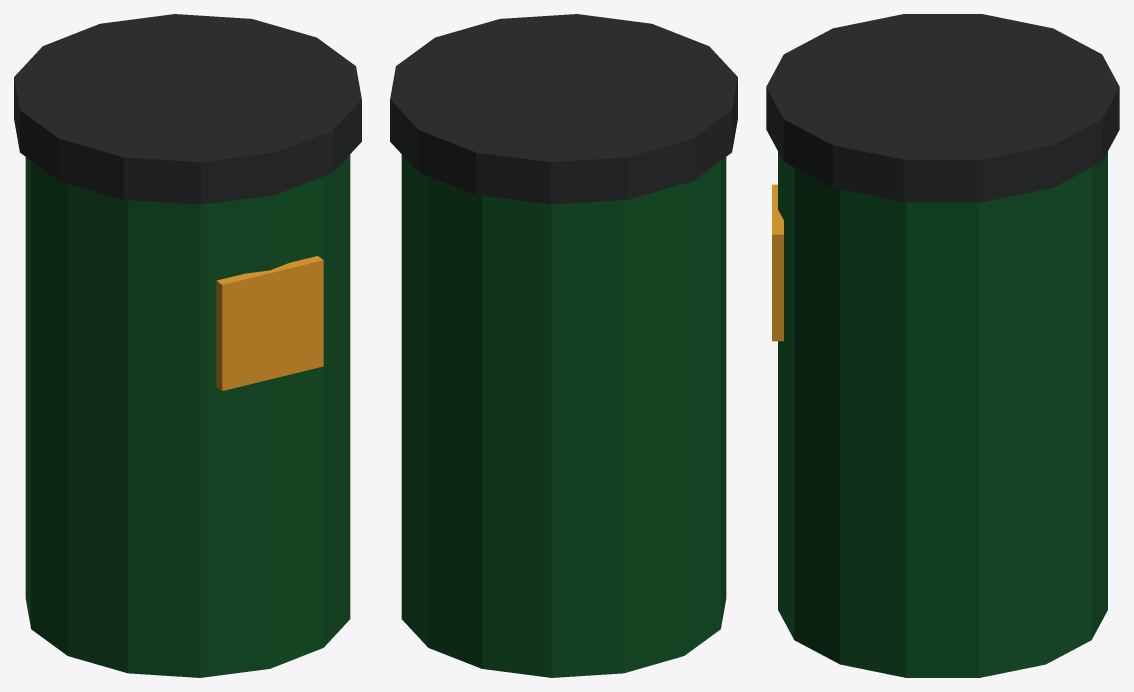
The model's file is PROP_REAL_TrashBin.glb.
3 views of the same model, side by side, from view 1: azimuth 30°, elevation 25°; view 2: azimuth 150°, elevation 25°; view 3: azimuth 270°, elevation 25° (orthographic).
Parts seen in each view (by area): view 1: PROP_REAL_TrashBin; view 2: PROP_REAL_TrashBin; view 3: PROP_REAL_TrashBin.
Boxes of the visible parts, x1,y1,x2,y2 form: PROP_REAL_TrashBin: [14, 14, 361, 677]; PROP_REAL_TrashBin: [390, 14, 737, 677]; PROP_REAL_TrashBin: [766, 14, 1119, 677].
Bounding box in the file's own units: 0.585 × 0.98 × 0.6.
